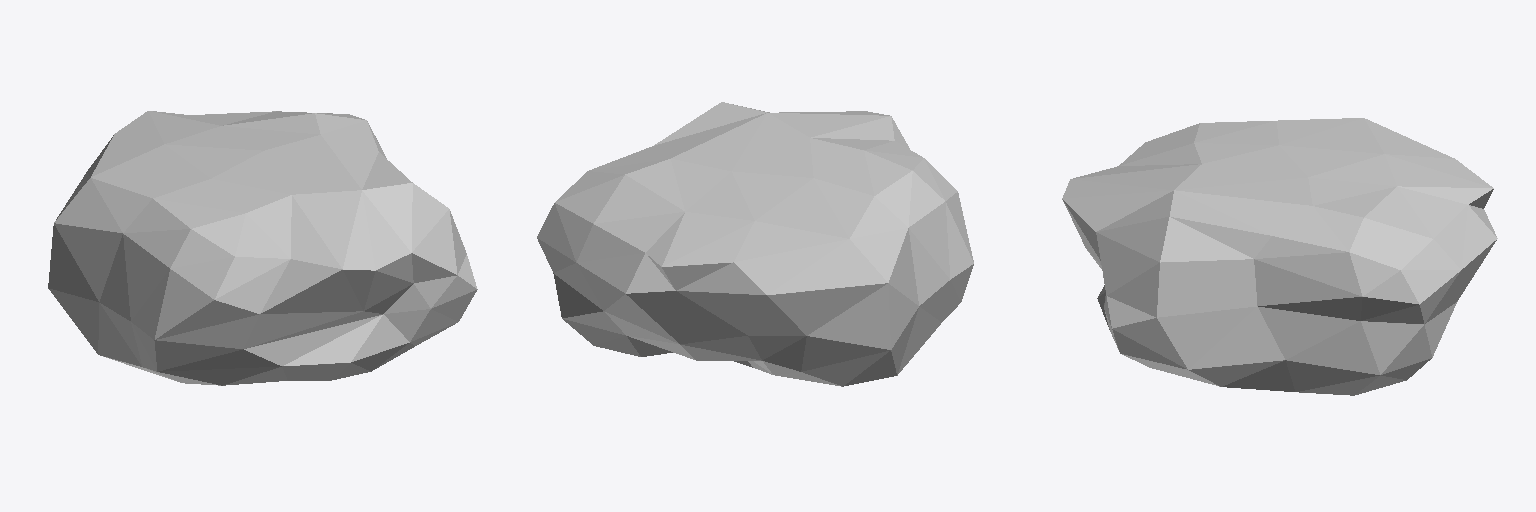
Rendered from Rock.obj.
The picture shows the model from 3 angles: view 1: azimuth 30°, elevation 25°; view 2: azimuth 150°, elevation 25°; view 3: azimuth 270°, elevation 25°; orthographic projection.
Parts seen in each view (by area): view 1: Cube; view 2: Cube; view 3: Cube.
Part boxes in pixels (left/top/right/bottom): Cube: left=48, top=111, right=477, bottom=385; Cube: left=537, top=102, right=973, bottom=386; Cube: left=1062, top=118, right=1497, bottom=395.
Bounding box in the file's own units: 1.41 × 0.7477 × 1.61.